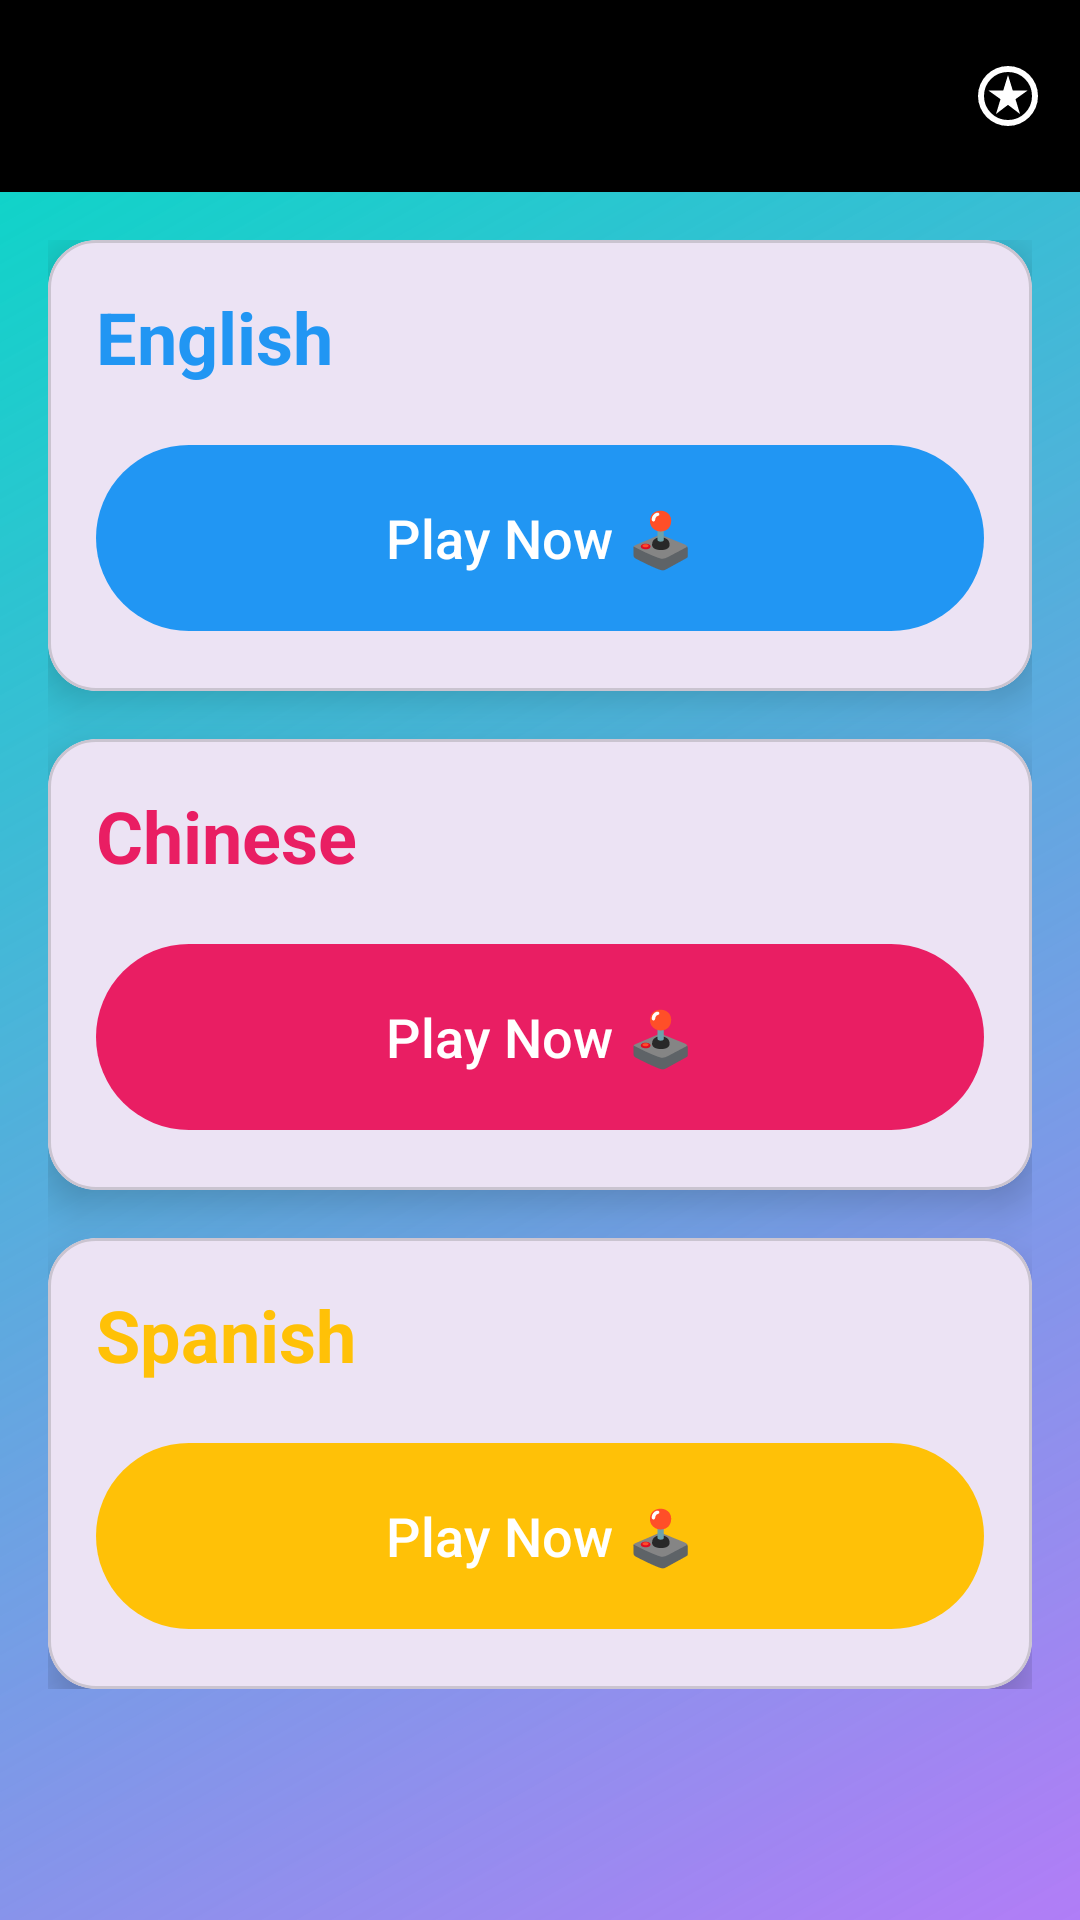

Icons on this 1080w x 1920h Android screen, each with its box as [left=x1, top=y1, right=x2, bottom=y2]:
ranking: [left=978, top=66, right=1038, bottom=126]
